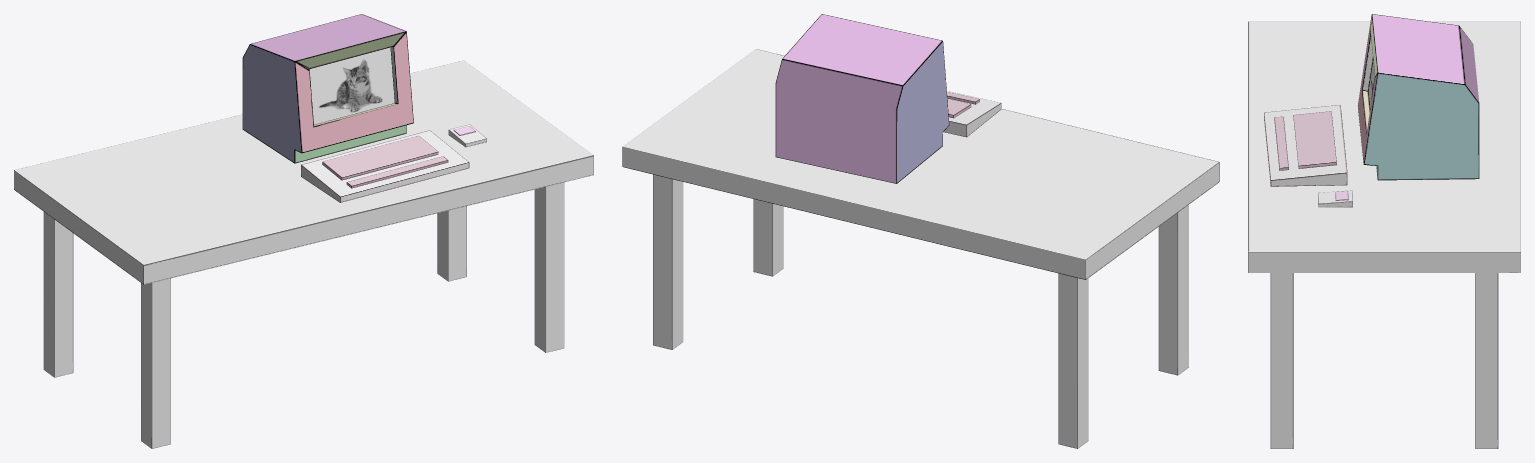
File: newtable.gltf
3 views of the same model, side by side, from view 1: azimuth 30°, elevation 25°; view 2: azimuth 150°, elevation 25°; view 3: azimuth 270°, elevation 25° (orthographic). The views are drawn at different scales.
Visible parts, largest first — view 1: Table, Monitor, Keyboard, Screen, Mouse; view 2: Table, Monitor, Keyboard; view 3: Table, Monitor, Keyboard, Mouse.
Boxes of the visible parts, <box> form: Table: <box>14,60,593,448</box>; Monitor: <box>242,14,413,163</box>; Keyboard: <box>301,130,469,202</box>; Screen: <box>309,47,394,124</box>; Mouse: <box>448,124,486,147</box>; Table: <box>622,49,1219,448</box>; Monitor: <box>775,14,949,183</box>; Keyboard: <box>943,91,1001,137</box>; Table: <box>1248,21,1520,448</box>; Monitor: <box>1358,14,1479,180</box>; Keyboard: <box>1264,105,1347,186</box>; Mouse: <box>1318,190,1352,207</box>.
Bounding box in the file's own units: 110 × 71.6 × 55.12.
9 materials, 9 textured.
